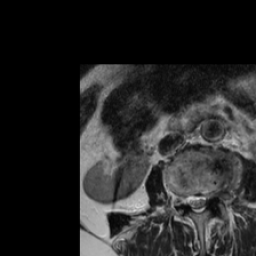CCS_normal: (195, 186, 200, 219)
LFS_normal: (207, 181, 215, 208)
LLS_normal: (200, 186, 207, 215)
RFS_normal: (179, 185, 187, 213)
RLS_normal: (187, 187, 195, 215)
